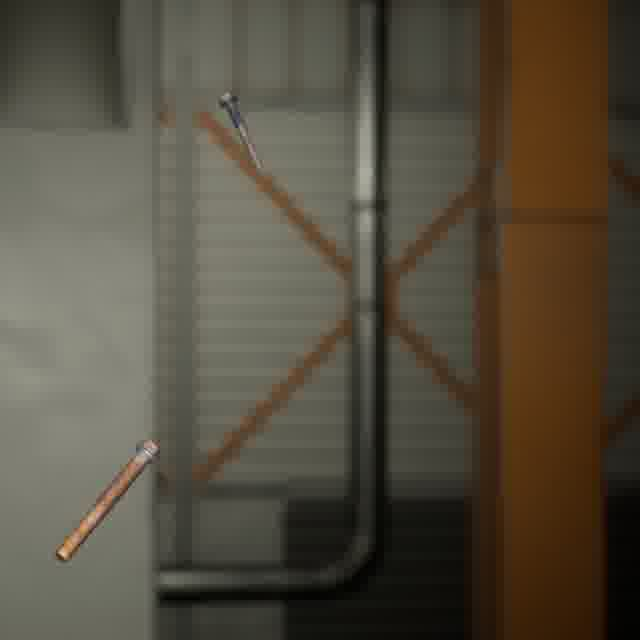bolt: (50, 434, 165, 566), (213, 86, 268, 179)
